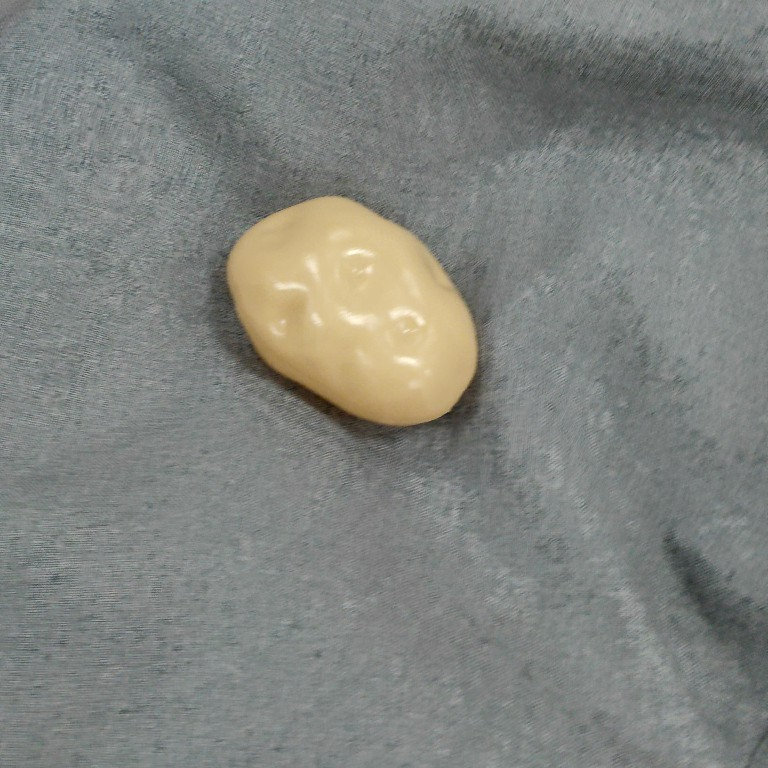fruit_potato: (220, 188, 483, 431)
